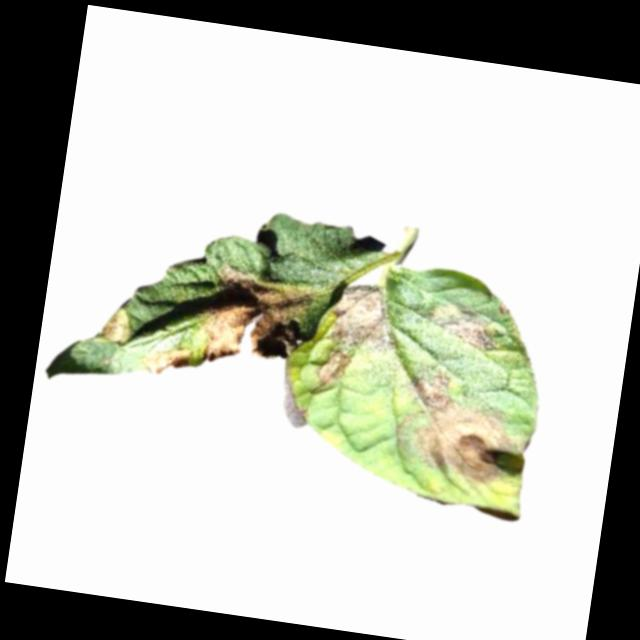Late_blight: (391, 367, 523, 487), (193, 260, 320, 378), (326, 278, 405, 353), (421, 295, 503, 354), (139, 340, 194, 380), (93, 301, 135, 346), (315, 348, 352, 390)
